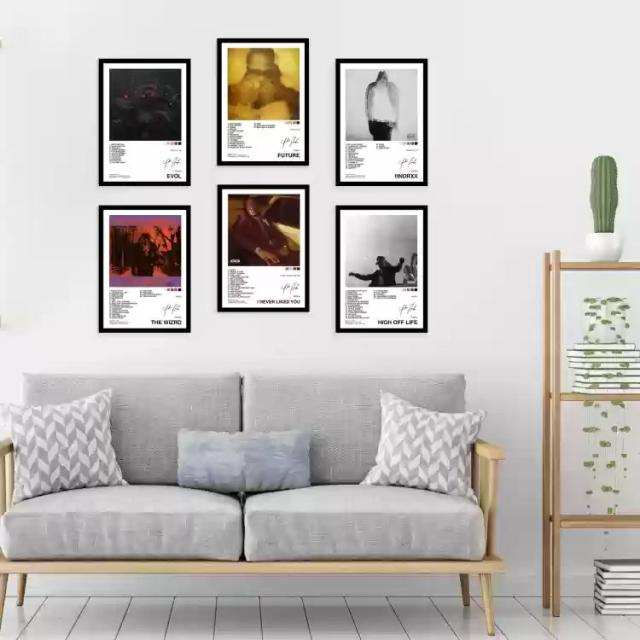painting: (98, 204, 192, 333), (217, 37, 311, 166), (334, 204, 428, 333), (98, 58, 192, 186), (217, 183, 310, 312), (335, 57, 428, 186)
